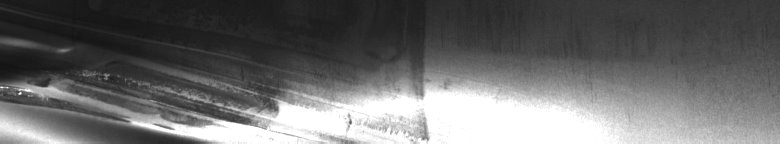ke: (4, 8, 448, 136)
